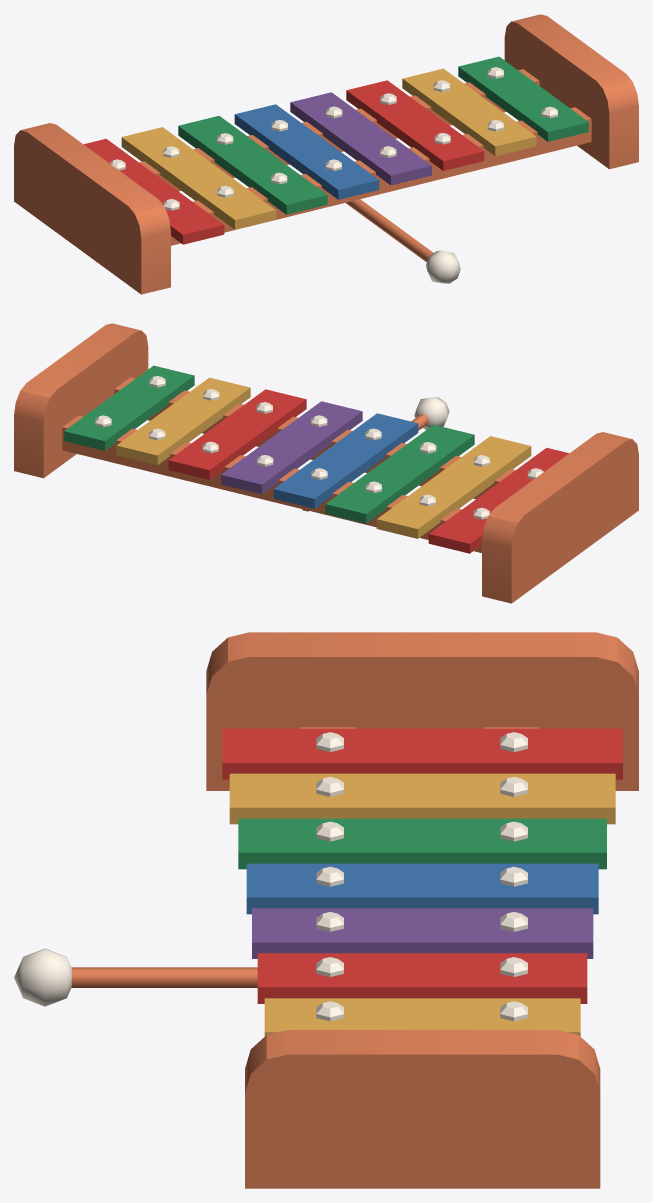
File: Xylophone_01.fbx
The picture shows the model from 3 angles, top to bottom: view 1: azimuth 30°, elevation 25°; view 2: azimuth 150°, elevation 25°; view 3: azimuth 270°, elevation 25°; orthographic projection. The views are drawn at different scales.
Visible parts, largest first — view 1: Xylophone_01, Xylophone_Stick_01; view 2: Xylophone_01, Xylophone_Stick_01; view 3: Xylophone_01, Xylophone_Stick_01.
Part boxes in pixels (x1,y1,x2,y2): Xylophone_01: (14, 14, 638, 294); Xylophone_Stick_01: (345, 199, 460, 283); Xylophone_01: (14, 323, 638, 603); Xylophone_Stick_01: (302, 397, 449, 511); Xylophone_01: (206, 632, 638, 1188); Xylophone_Stick_01: (14, 948, 257, 1006).
Bounding box in the file's own units: 0.4953 × 0.0888 × 0.3098.
